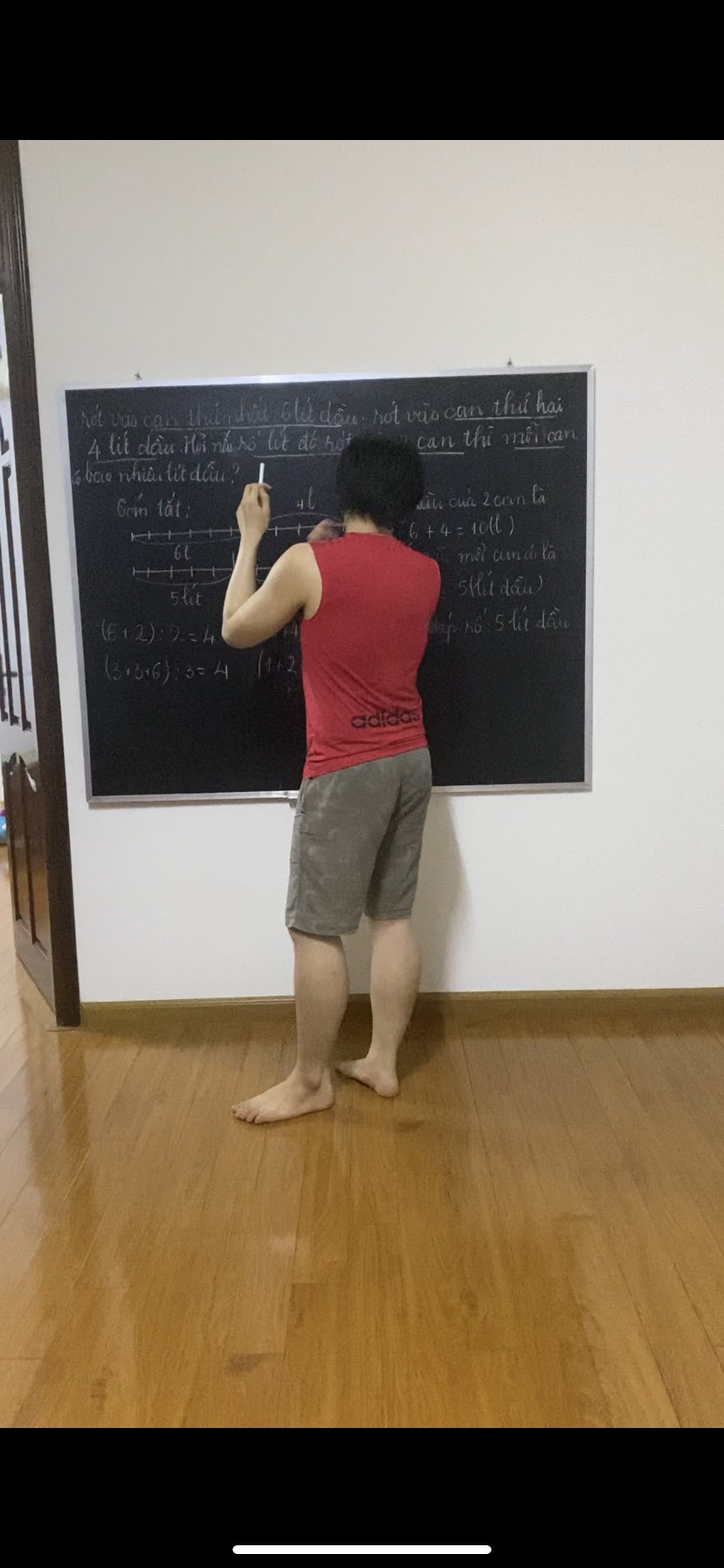cigarette: (254, 458, 269, 484)
person: (221, 436, 442, 1133)
